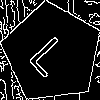L: (27, 28, 79, 79)
